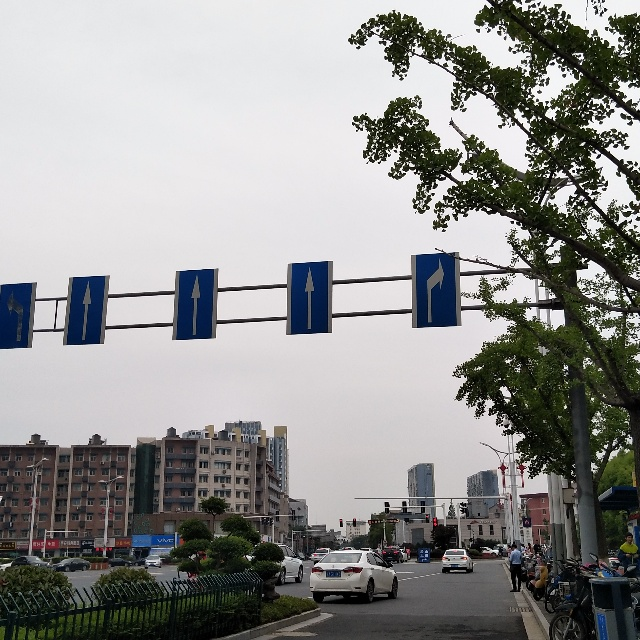left: (1, 283, 33, 348)
right: (415, 254, 457, 327)
straight: (176, 269, 216, 340), (290, 263, 329, 330), (70, 278, 102, 346)
